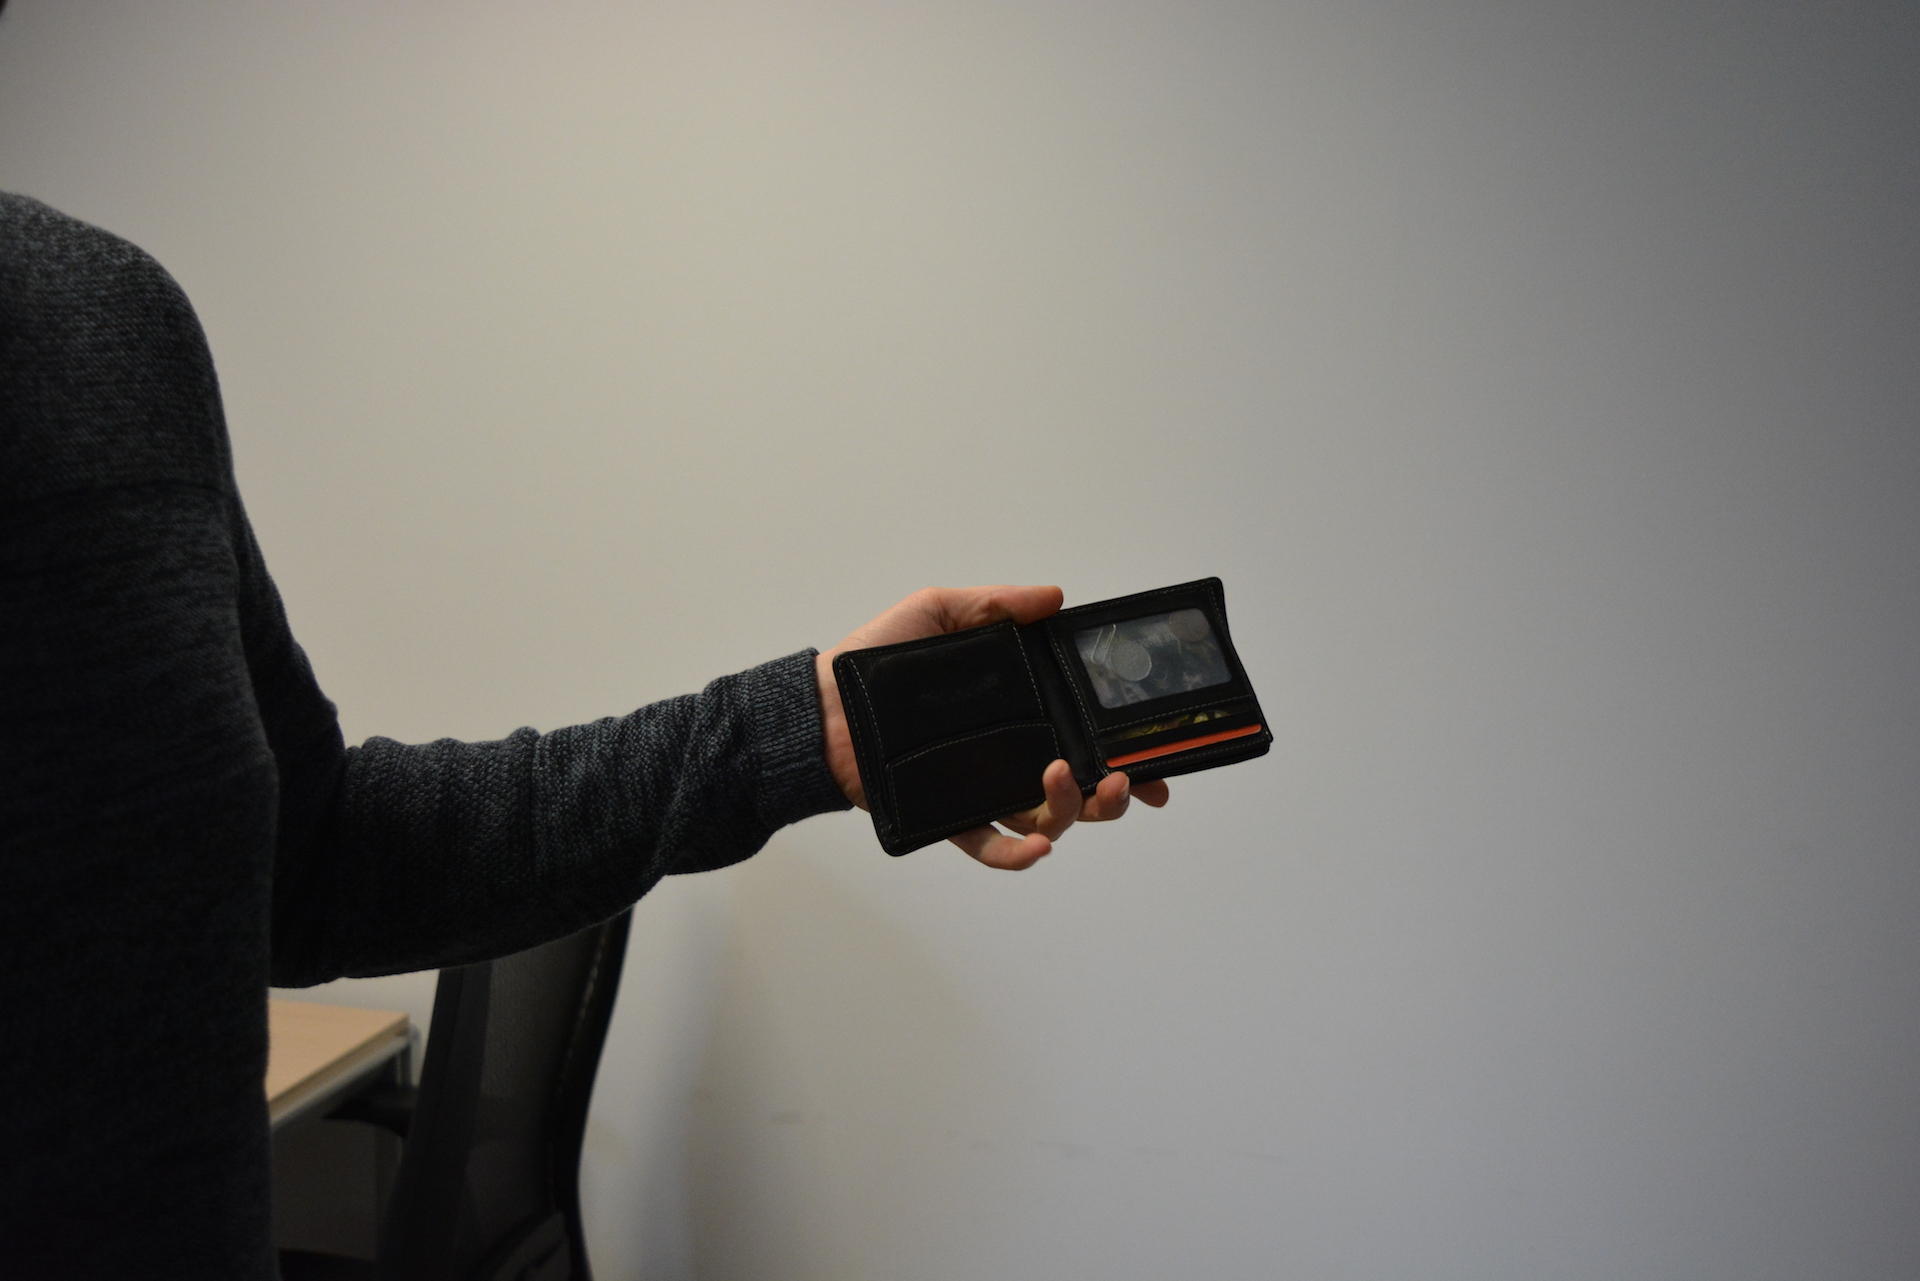monedero: (831, 573, 1277, 859)
